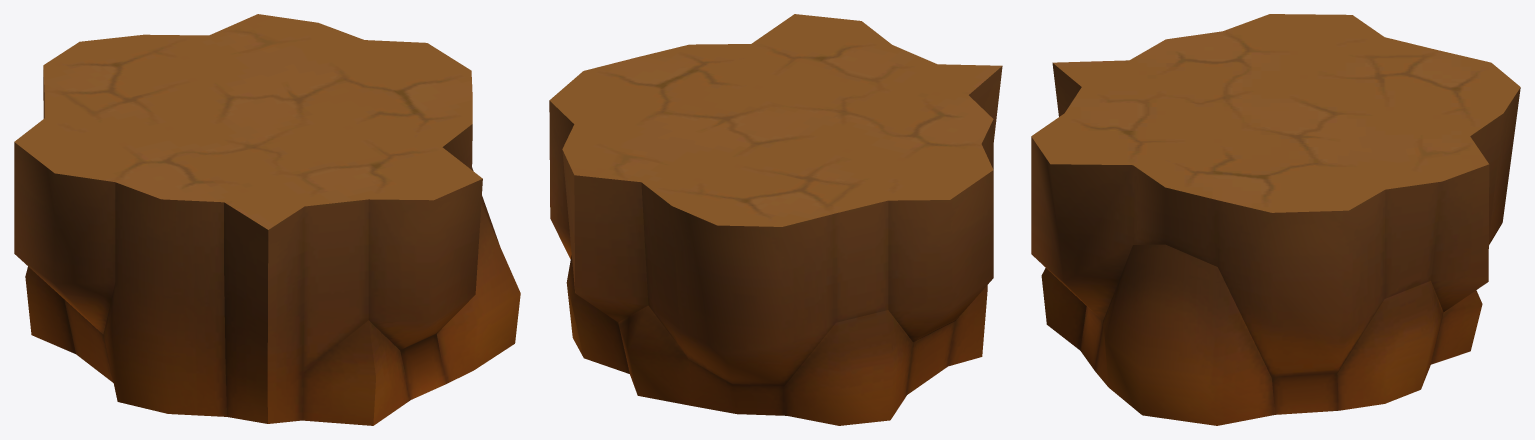
Rendered from Hell_Platform_LargerMesh.fbx.
The picture shows the model from 3 angles, left to right: view 1: azimuth 30°, elevation 25°; view 2: azimuth 150°, elevation 25°; view 3: azimuth 270°, elevation 25°; orthographic projection. The views are drawn at different scales.
Visible parts, largest first — view 1: Hell_Platform_LargerMesh; view 2: Hell_Platform_LargerMesh; view 3: Hell_Platform_LargerMesh.
Boxes of the visible parts, x1,y1,x2,y2 form: Hell_Platform_LargerMesh: [14, 14, 520, 425]; Hell_Platform_LargerMesh: [549, 14, 1002, 425]; Hell_Platform_LargerMesh: [1031, 14, 1520, 425].
Size of the model in its own units: 247 by 122 by 254.
